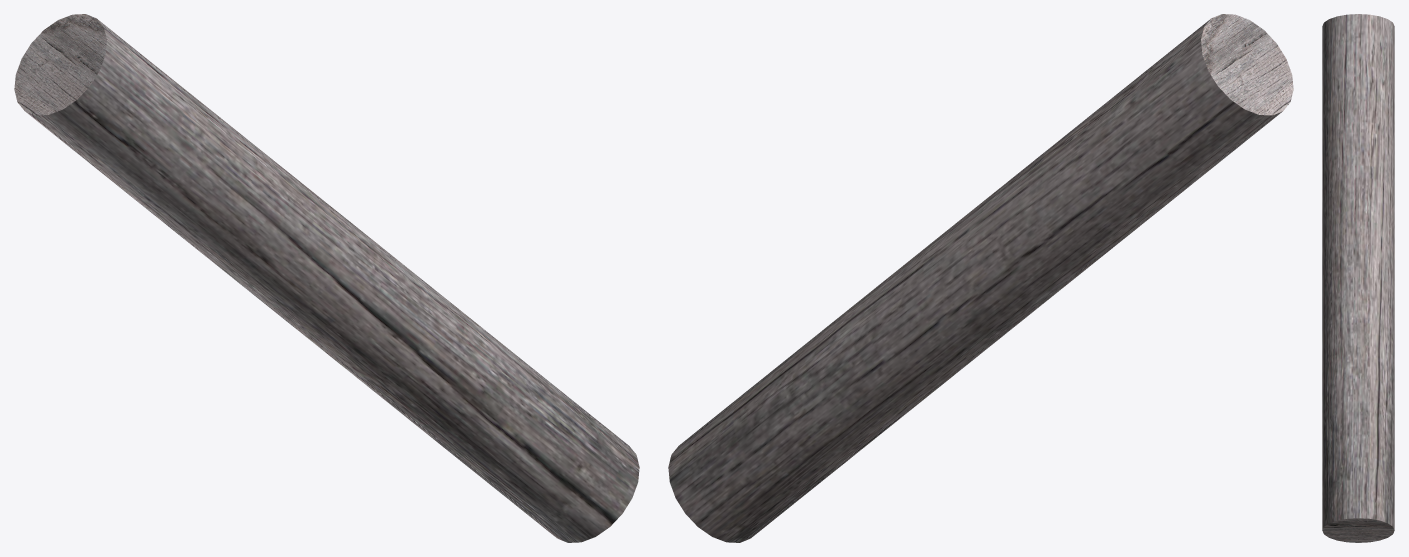
The model's file is stick.fbx.
The picture shows the model from 3 angles, left to right: view 1: azimuth 30°, elevation 25°; view 2: azimuth 150°, elevation 25°; view 3: azimuth 270°, elevation 25°; orthographic projection. The views are drawn at different scales.
Visible parts, largest first — view 1: polySurface13; view 2: polySurface13; view 3: polySurface13.
Boxes of the visible parts, <box> form: polySurface13: <box>14,14,639,542</box>; polySurface13: <box>668,14,1293,542</box>; polySurface13: <box>1322,14,1394,542</box>.
Size of the model in its own units: 0.5173 by 0.5173 by 0.087.
